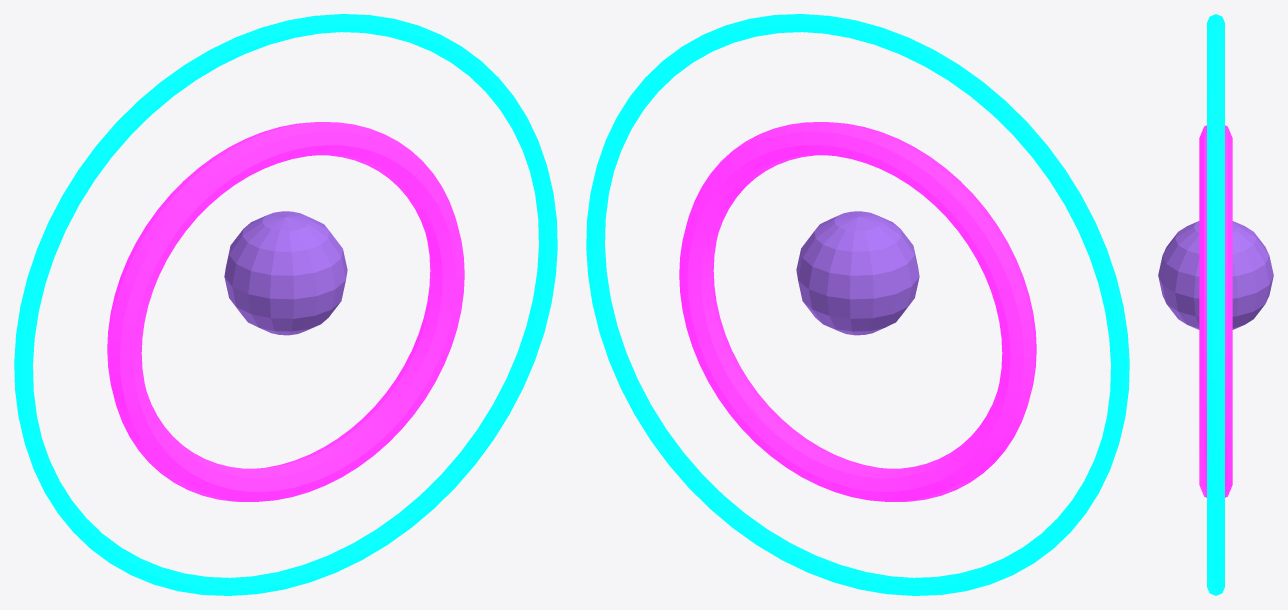
File: gravity_well.glb
3 views of the same model, side by side, from view 1: azimuth 30°, elevation 25°; view 2: azimuth 150°, elevation 25°; view 3: azimuth 270°, elevation 25° (orthographic). The views are drawn at different scales.
Visible parts, largest first — view 1: GravityWellMagentaEventHorizon, GravityWellCyanOuterPullRing, GravityWellDarkSingularity; view 2: GravityWellMagentaEventHorizon, GravityWellCyanOuterPullRing, GravityWellDarkSingularity; view 3: GravityWellCyanOuterPullRing, GravityWellDarkSingularity, GravityWellMagentaEventHorizon.
Boxes of the visible parts, <box> form: GravityWellMagentaEventHorizon: <box>107,122,464,501</box>; GravityWellCyanOuterPullRing: <box>14,14,557,595</box>; GravityWellDarkSingularity: <box>224,211,347,335</box>; GravityWellMagentaEventHorizon: <box>679,122,1036,501</box>; GravityWellCyanOuterPullRing: <box>586,14,1129,595</box>; GravityWellDarkSingularity: <box>796,211,919,335</box>; GravityWellCyanOuterPullRing: <box>1207,14,1224,595</box>; GravityWellDarkSingularity: <box>1158,221,1273,329</box>; GravityWellMagentaEventHorizon: <box>1199,125,1232,497</box>.
Bounding box in the file's own units: 1.71 × 1.71 × 0.3392.
